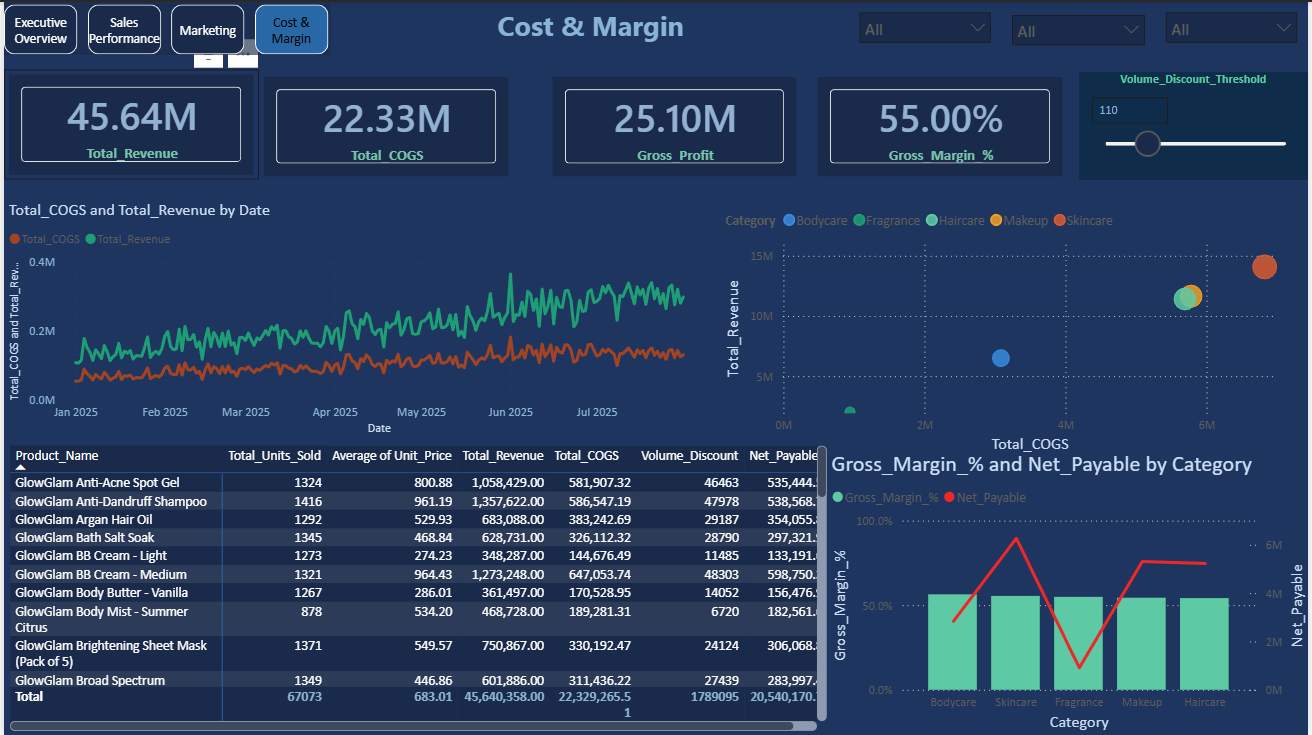

Layout of this report page (visuals, bound fields, positions):
{"tool":"powerbi","page":{"name":"Cost & Margin","canvas":[1280,720],"ordinal":3},"visuals":[{"type":"cardVisual","fields":{"Data":["fact_sales.Total_COGS"]},"box":[250.3,68.7,250.3,108],"z":0},{"type":"cardVisual","fields":{"Data":["fact_sales.Total_Revenue"]},"box":[0.2,66.5,250,108],"z":1000},{"type":"cardVisual","fields":{"Data":["fact_sales.Gross_Profit"]},"box":[533.7,68.7,249.1,108],"z":2000},{"type":"cardVisual","fields":{"Data":["fact_sales.Gross_Margin_%"]},"box":[793.9,68.7,250.3,108],"z":3000},{"type":"textbox","box":[320.9,0,509.1,49.5],"z":4000},{"type":"pageNavigator","box":[0,2.4,320.9,49.5],"z":5000},{"type":"lineChart","fields":{"Category":["Dim_Date.Date.Variation.Date Hierarchy.Month"],"Y":["fact_sales.Total_COGS","fact_sales.Total_Revenue"]},"box":[0,193.9,692,236.8],"z":6000},{"type":"pivotTable","fields":{"Rows":["Product List.Product_Name"],"Values":["fact_sales.Total_Units_Sold","Avg(fact_sales.Unit_Price)","fact_sales.Total_Revenue","fact_sales.Total_COGS","fact_sales.Volume_Discount","fact_sales.Net_Payable"]},"box":[1.2,430.7,811,289.6],"z":7000},{"type":"lineStackedColumnComboChart","fields":{"Y":["fact_sales.Gross_Margin_%"],"Category":["Product List.Category"],"Y2":["fact_sales.Net_Payable"]},"box":[812.3,439.3,467.5,281],"z":8000},{"type":"slicer","fields":{"Values":["Dim_Date.Date.Variation.Date Hierarchy.Year"]},"box":[830,0,149.6,49.5],"z":10000},{"type":"slicer","fields":{"Values":["Dim_Month.YearMonth"]},"box":[979.6,2.4,150.8,47.1],"z":11000},{"type":"slicer","fields":{"Values":["Dim_Category.Category"]},"box":[1130.4,0,149.6,49.5],"z":12000},{"type":"scatterChart","fields":{"X":["fact_sales.Total_COGS"],"Y":["fact_sales.Total_Revenue"],"Series":["fact_sales.Category"],"Size":["fact_sales.Total_Revenue"]},"box":[703.1,193.9,560.7,254],"z":13000},{"type":"slicer","title":"Volume_Discount_Threshold","fields":{"Values":["Volume_Discount_Threshold.Volume_Discount_Threshold"]},"box":[1055.2,68.7,224.5,105.5],"z":14000}]}

Visuals, with their boxes in screenshot pixels (x1, y1, x2, y2), scaled from the page's 1280x720 canvas onto the 1312x735 screenshot:
cardVisual - fact_sales.Total_COGS: region(257, 70, 513, 180)
cardVisual - fact_sales.Total_Revenue: region(0, 68, 256, 178)
cardVisual - fact_sales.Gross_Profit: region(547, 70, 802, 180)
cardVisual - fact_sales.Gross_Margin_%: region(814, 70, 1070, 180)
textbox: region(329, 0, 851, 51)
pageNavigator: region(0, 2, 329, 53)
lineChart - Dim_Date.Date.Variation.Date Hierarchy.Month x fact_sales.Total_COGS: region(0, 198, 709, 440)
pivotTable - Product List.Product_Name x fact_sales.Total_Units_Sold: region(1, 440, 833, 734)
lineStackedColumnComboChart - fact_sales.Gross_Margin_% x Product List.Category: region(833, 448, 1311, 734)
slicer - Dim_Date.Date.Variation.Date Hierarchy.Year: region(851, 0, 1004, 51)
slicer - Dim_Month.YearMonth: region(1004, 2, 1159, 51)
slicer - Dim_Category.Category: region(1159, 0, 1311, 51)
scatterChart - fact_sales.Total_COGS x fact_sales.Total_Revenue: region(721, 198, 1295, 457)
"Volume_Discount_Threshold" slicer: region(1082, 70, 1311, 178)
